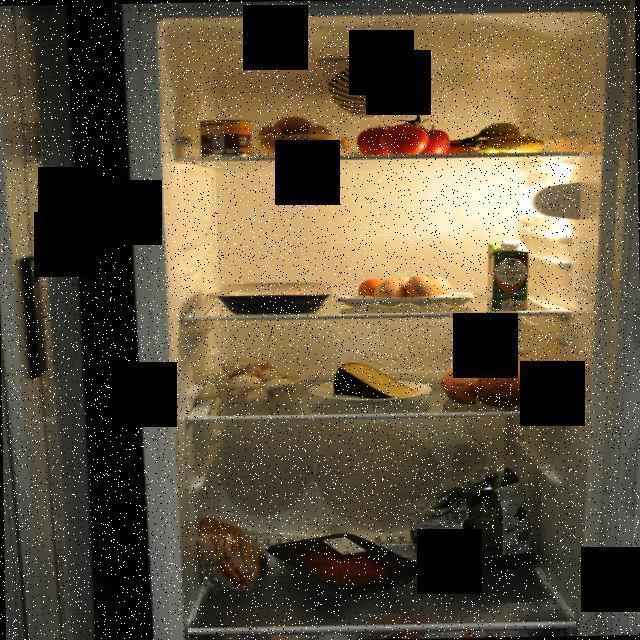banana: (432, 121, 550, 155)
beef: (264, 528, 428, 601)
bread: (194, 515, 272, 594)
cheese: (328, 360, 418, 402)
corn: (194, 115, 256, 160)
egg: (352, 274, 454, 308)
heavy_cream: (486, 237, 528, 311)
mushrooms: (212, 356, 306, 407)
potato: (252, 114, 356, 158)
spinach: (406, 466, 542, 572)
sweet_potato: (436, 348, 550, 408)
tomato: (356, 105, 454, 155)
